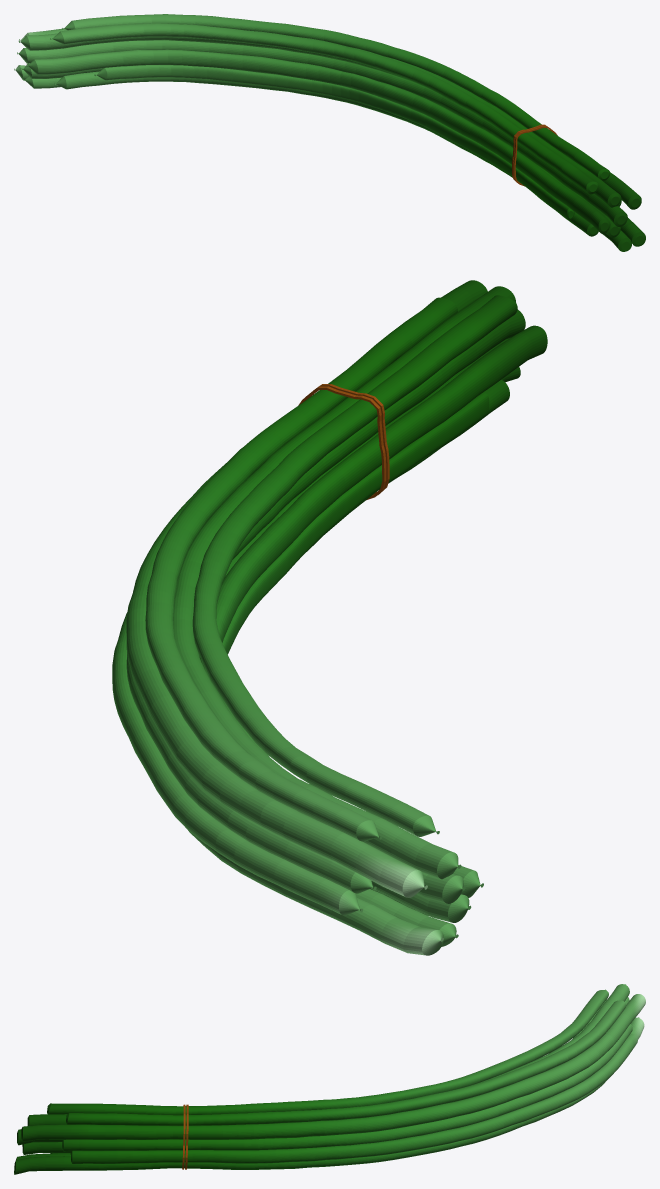
The model's file is kacangpanjang.glb.
The picture shows the model from 3 angles, top to bottom: view 1: azimuth 30°, elevation 25°; view 2: azimuth 150°, elevation 25°; view 3: azimuth 270°, elevation 25°; orthographic projection. The views are drawn at different scales.
Visible parts, largest first — view 1: beanhelper; view 2: beanhelper; view 3: beanhelper.
Boxes of the visible parts, box(x1,y1,x2,y2) form: beanhelper: box(14, 14, 645, 251); beanhelper: box(112, 280, 547, 955); beanhelper: box(14, 984, 645, 1174).
Bounding box in the file's own units: 4.46 × 0.8084 × 7.94.
Materials: 3 (1 with a texture image).
